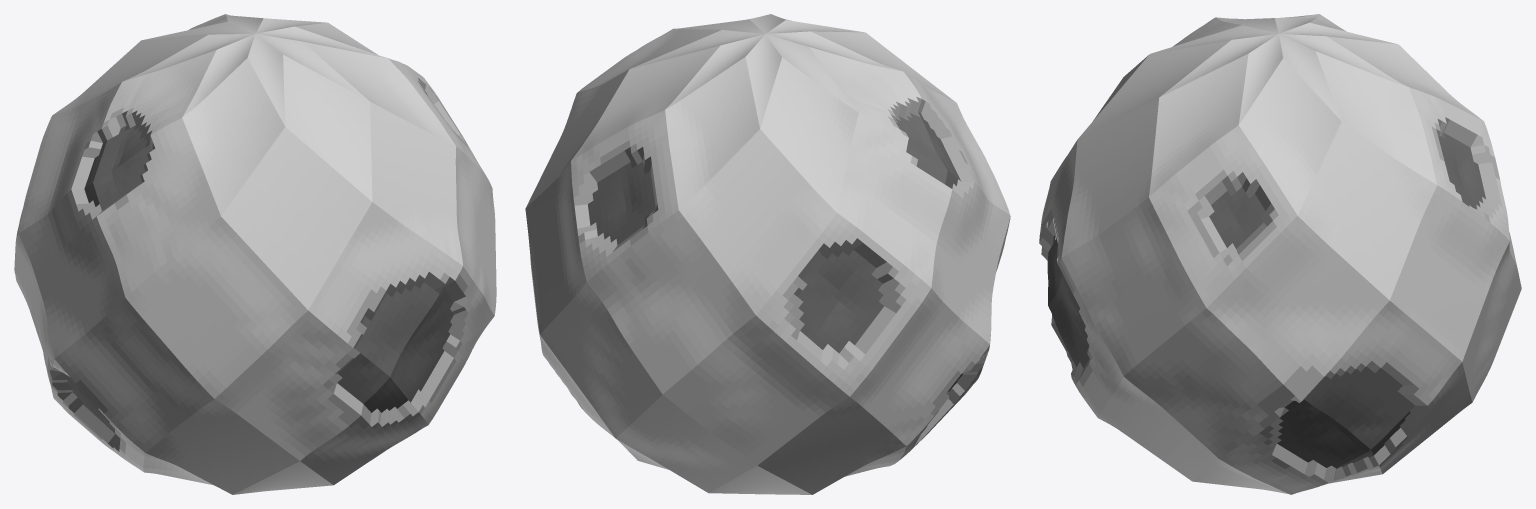
Rendered from Moon.fbx.
3 renders of one model, left to right at view 1: azimuth 30°, elevation 25°; view 2: azimuth 150°, elevation 25°; view 3: azimuth 270°, elevation 25°, orthographic.
Parts seen in each view (by area): view 1: Moon; view 2: Moon; view 3: Moon.
Part boxes in pixels (x1,y1,x2,y2): Moon: [14, 14, 496, 494]; Moon: [525, 14, 1010, 494]; Moon: [1039, 14, 1521, 494].
Size of the model in its own units: 201 by 200 by 198.
